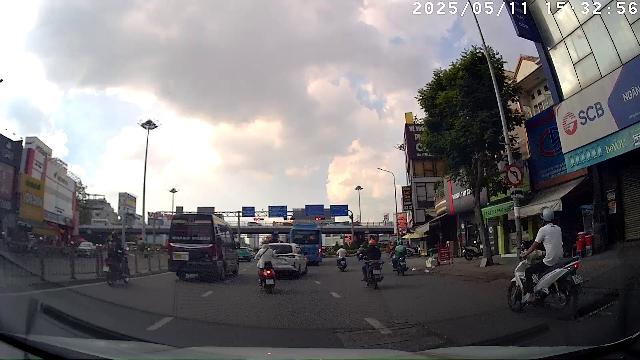123a-cam-re-trai: (505, 164, 523, 186)
